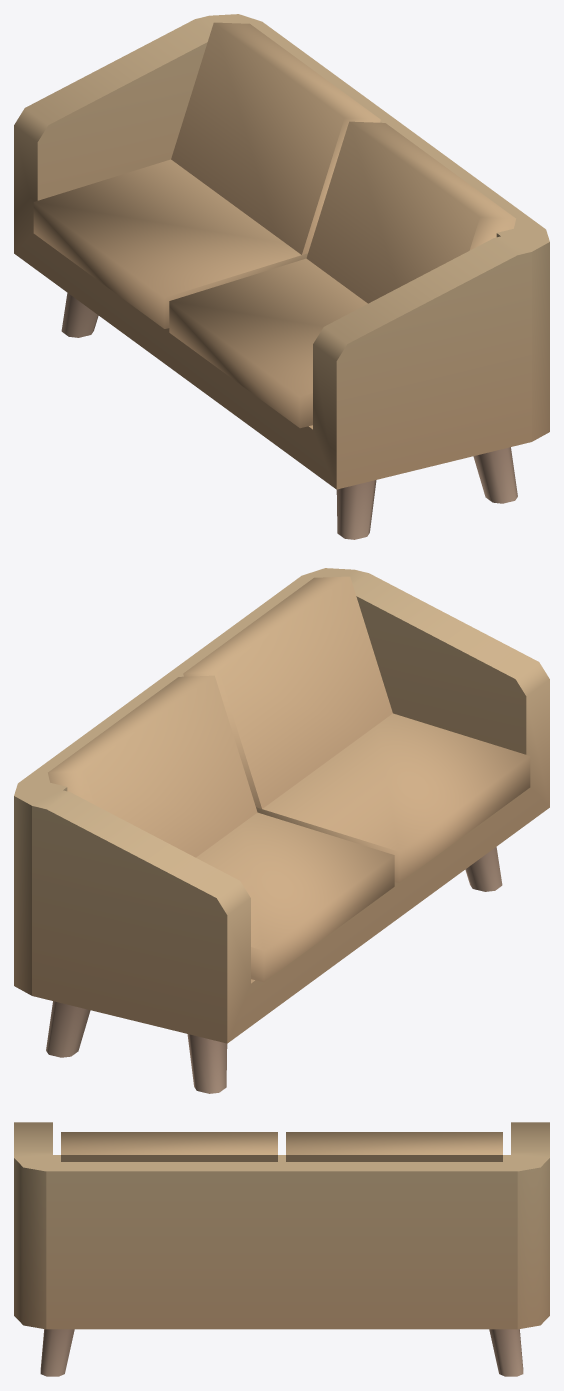
Rendered from vegas-sofa.glb.
3 views of the same model, one above another, from view 1: azimuth 30°, elevation 25°; view 2: azimuth 150°, elevation 25°; view 3: azimuth 270°, elevation 25° (orthographic). The views are drawn at different scales.
Parts seen in each view (by area): view 1: vegas-sofa; view 2: vegas-sofa; view 3: vegas-sofa.
Boxes of the visible parts, bbox=[...] form: vegas-sofa: bbox=[14, 14, 549, 539]; vegas-sofa: bbox=[14, 568, 549, 1093]; vegas-sofa: bbox=[14, 1122, 549, 1376].
Size of the model in its own units: 0.593 by 0.6688 by 1.4.
